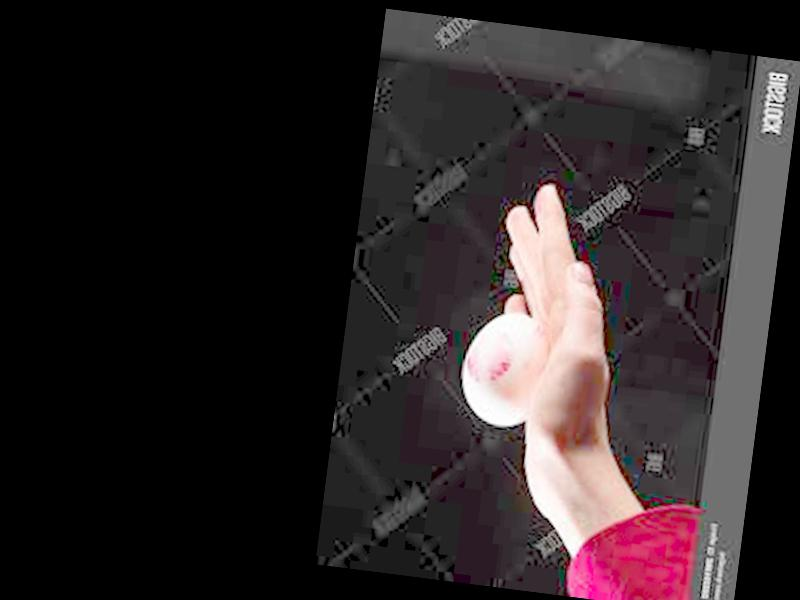Eggs: (455, 310, 545, 431)
